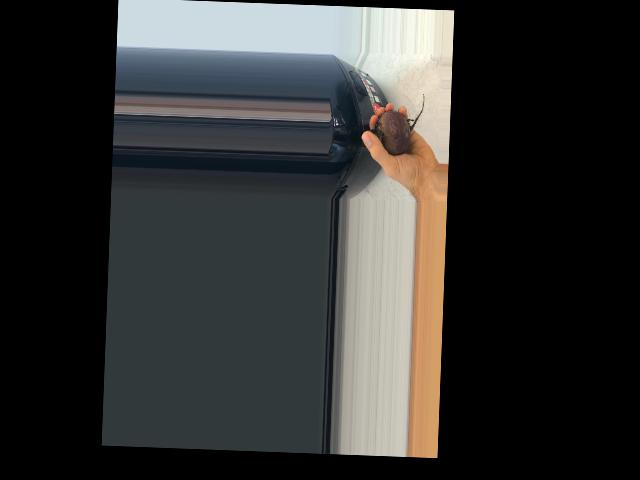beet: (369, 91, 424, 156)
